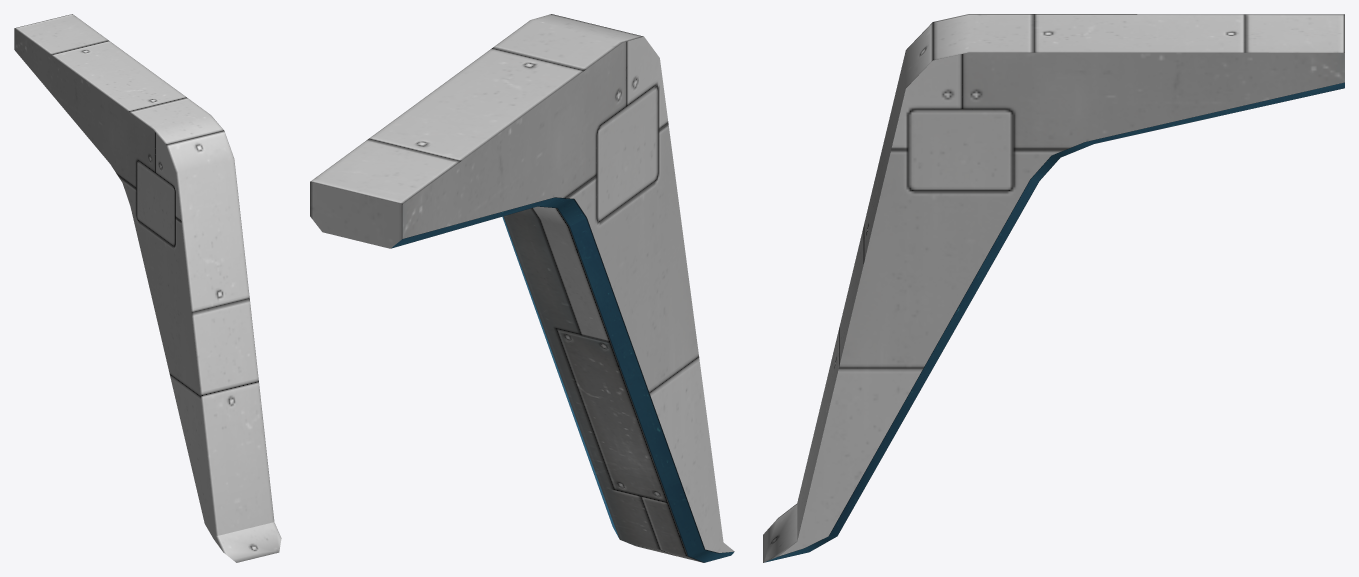
Rendered from Arch_02.FBX.
The picture shows the model from 3 angles, left to right: view 1: azimuth 30°, elevation 25°; view 2: azimuth 150°, elevation 25°; view 3: azimuth 270°, elevation 25°; orthographic projection. The views are drawn at different scales.
Visible parts, largest first — view 1: Arch_02; view 2: Arch_02; view 3: Arch_02.
Boxes of the visible parts, x1=… form: Arch_02: x1=14, y1=14, x2=281, y2=562; Arch_02: x1=310, y1=14, x2=734, y2=562; Arch_02: x1=763, y1=14, x2=1344, y2=562.
Bounding box in the file's own units: 20.39 × 127 × 130.
